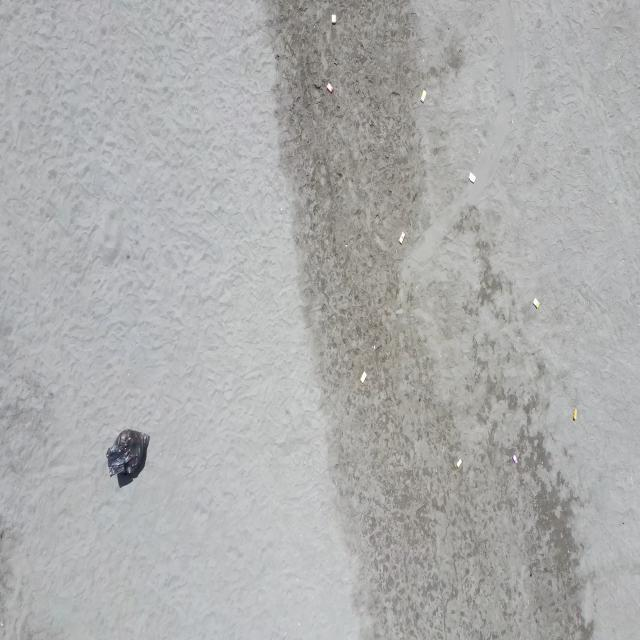Garbage: (105, 428, 148, 475), (467, 172, 475, 183), (420, 88, 426, 101), (397, 232, 404, 243), (532, 298, 539, 307), (360, 372, 366, 382), (572, 407, 576, 420), (327, 83, 332, 91), (512, 453, 516, 463), (455, 459, 460, 467), (332, 13, 335, 24), (372, 344, 375, 348)
